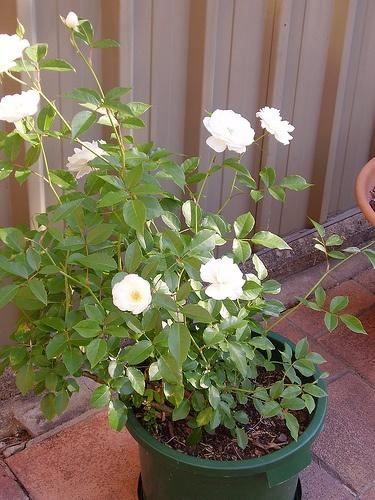pottedplant: (1, 12, 373, 500)
